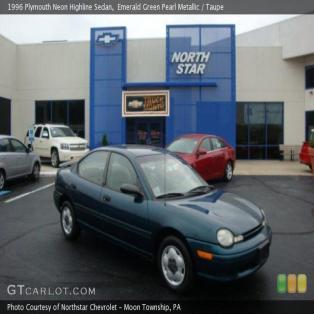Auto: (53, 145, 272, 291)
